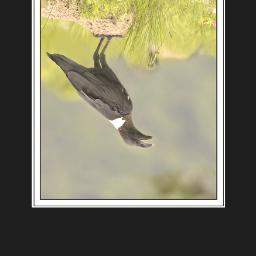Crow: (45, 32, 155, 149)
